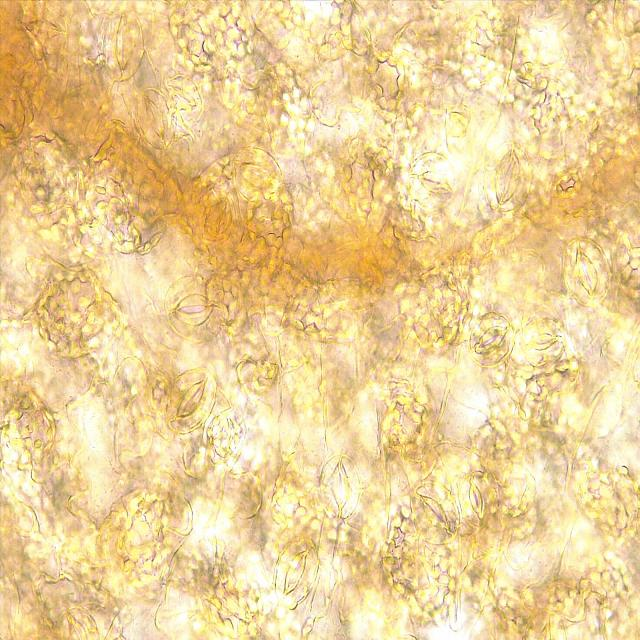Stomata: (163, 273, 227, 345), (323, 241, 385, 313), (162, 364, 219, 436), (560, 235, 613, 310), (482, 139, 534, 215), (270, 534, 320, 612), (408, 480, 462, 548), (99, 6, 146, 82), (230, 143, 285, 204), (318, 451, 363, 521), (406, 150, 456, 211), (468, 310, 515, 370), (519, 315, 567, 370), (136, 86, 176, 151), (460, 468, 496, 532), (164, 73, 204, 121), (202, 195, 237, 246)
